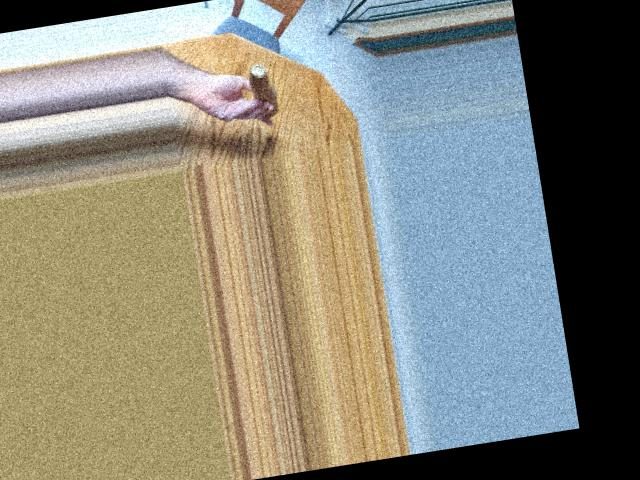sweet_potato: (255, 68, 281, 119)
